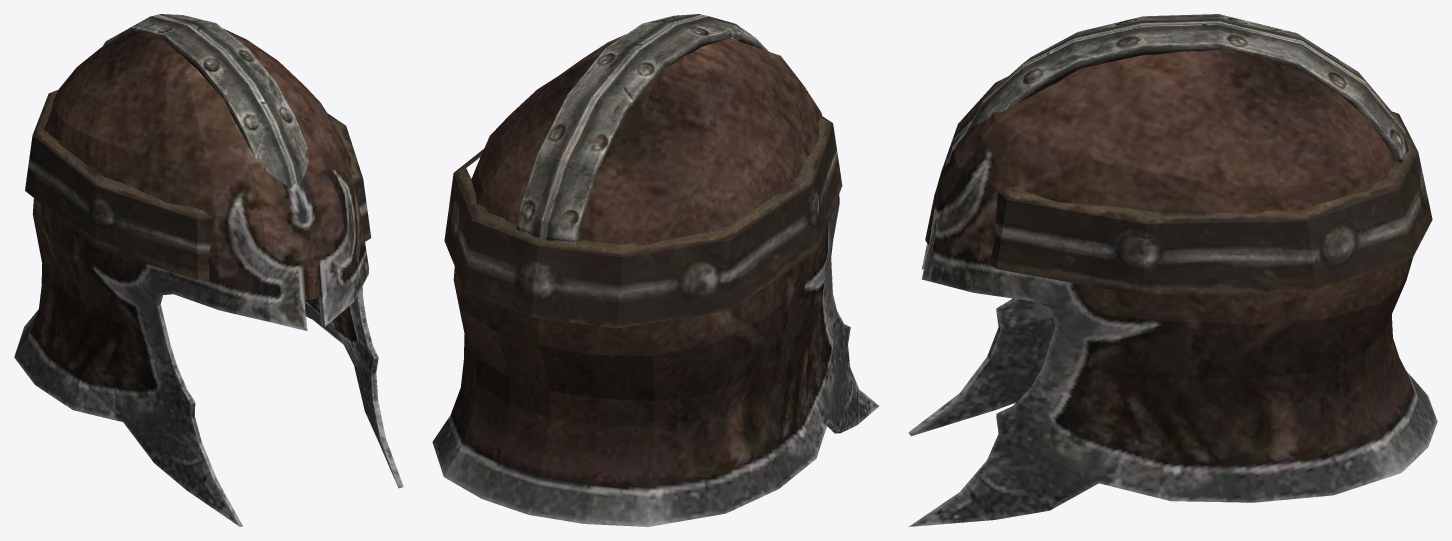
The model's file is ITHL_MAKEDHELMET1_AS_THORNIARA_ROBE.glb.
3 views of the same model, side by side, from view 1: azimuth 30°, elevation 25°; view 2: azimuth 150°, elevation 25°; view 3: azimuth 270°, elevation 25° (orthographic). The views are drawn at different scales.
Visible parts, largest first — view 1: ITHL_MAKEDHELMET1_AS_THORNIARA_ROBE; view 2: ITHL_MAKEDHELMET1_AS_THORNIARA_ROBE; view 3: ITHL_MAKEDHELMET1_AS_THORNIARA_ROBE.
Boxes of the visible parts, bbox=[...] form: ITHL_MAKEDHELMET1_AS_THORNIARA_ROBE: bbox=[14, 14, 403, 526]; ITHL_MAKEDHELMET1_AS_THORNIARA_ROBE: bbox=[432, 14, 879, 526]; ITHL_MAKEDHELMET1_AS_THORNIARA_ROBE: bbox=[908, 14, 1437, 526].
Bounding box in the file's own units: 0.2471 × 0.3254 × 0.3408.
Materials: 2 (2 with a texture image).
